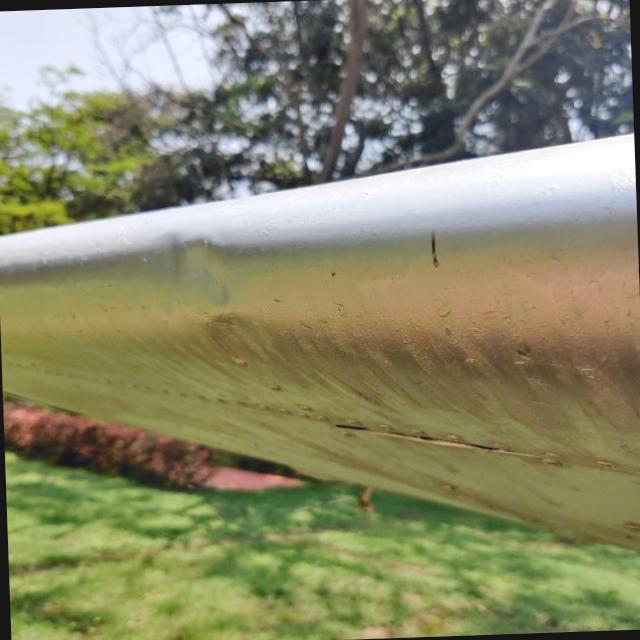dent: (143, 211, 256, 330)
